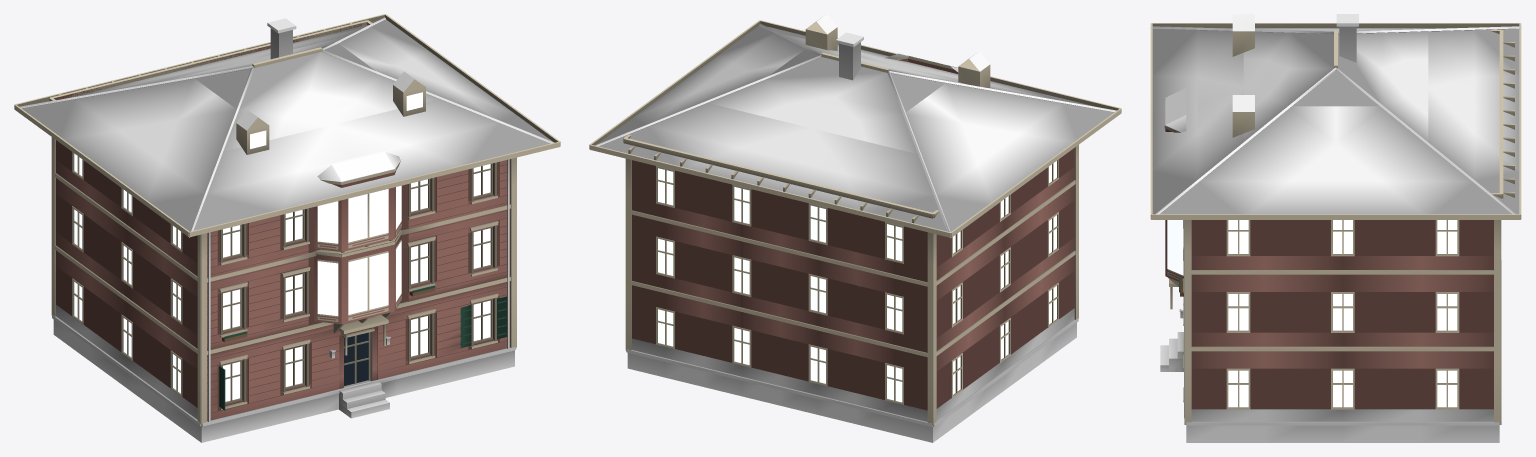
File: bld_yali_c.glb
The picture shows the model from 3 angles, left to right: view 1: azimuth 30°, elevation 25°; view 2: azimuth 150°, elevation 25°; view 3: azimuth 270°, elevation 25°; orthographic projection. The views are drawn at different scales.
Parts seen in each view (by area): view 1: LOD0; view 2: LOD0; view 3: LOD0.
Part boxes in pixels (x1=…): LOD0: x1=14, y1=14, x2=560, y2=442; LOD0: x1=589, y1=14, x2=1121, y2=442; LOD0: x1=1150, y1=14, x2=1521, y2=442.
Size of what is drawn, in the model's own units: 18.3 by 15.24 by 14.94.
